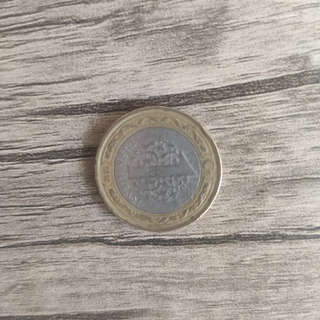1TL: (92, 103, 223, 234)
